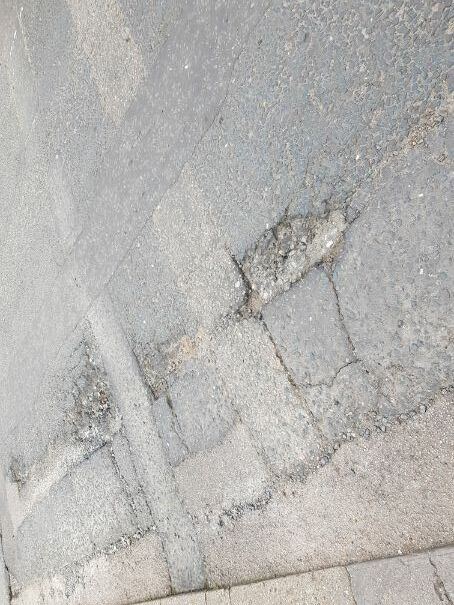pothole: (233, 193, 360, 323), (136, 322, 218, 405), (62, 348, 120, 446), (7, 450, 39, 492), (0, 561, 27, 603)
